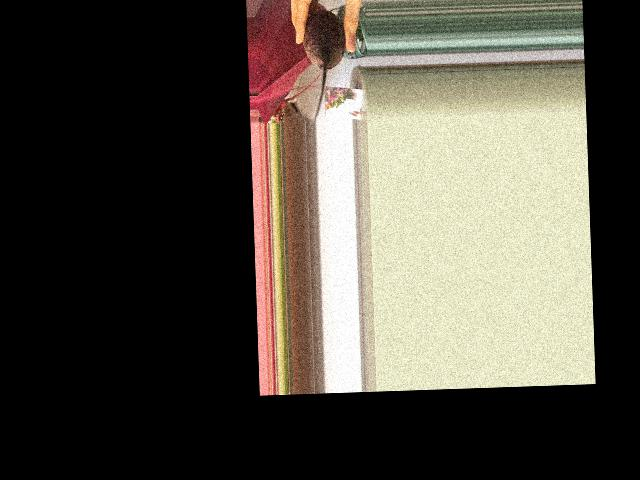beet: (302, 8, 348, 123)
